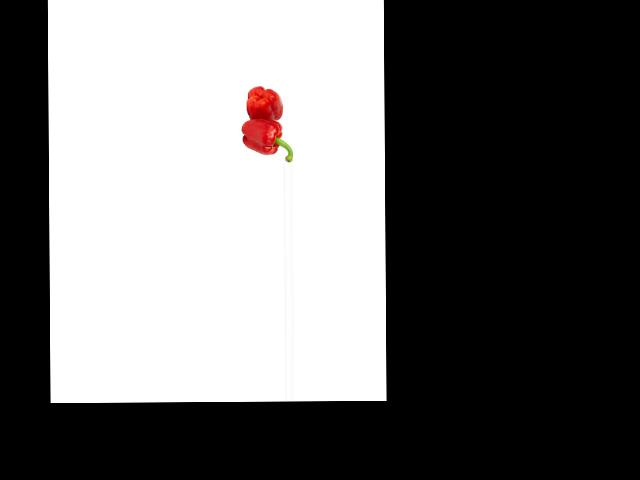bell_pepper: (244, 86, 285, 120)
